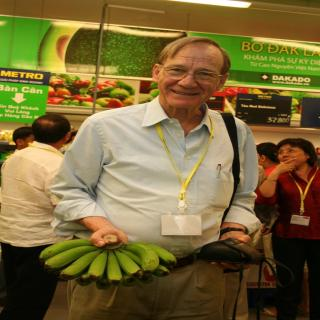Banana: (40, 230, 177, 288)
